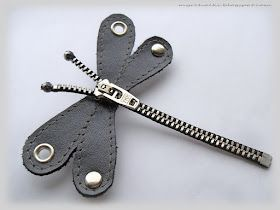cuero: (22, 14, 173, 196)
